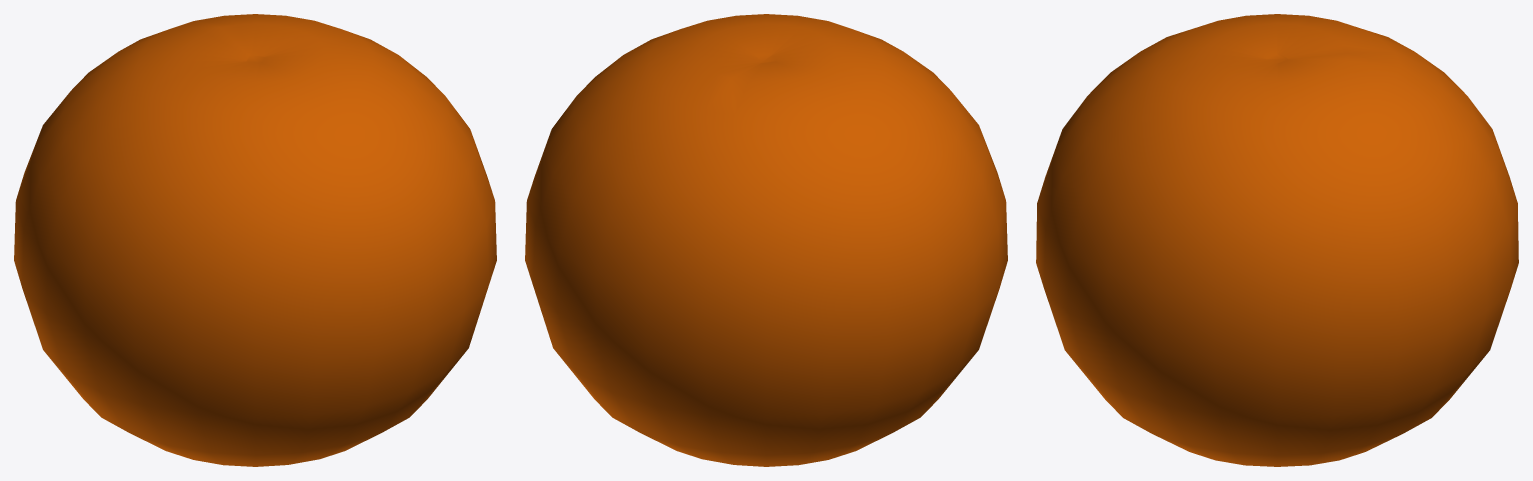
Rendered from Arancia.fbx.
3 views of the same model, side by side, from view 1: azimuth 30°, elevation 25°; view 2: azimuth 150°, elevation 25°; view 3: azimuth 270°, elevation 25° (orthographic).
Visible parts, largest first — view 1: Arancia.002; view 2: Arancia.002; view 3: Arancia.002.
Boxes of the visible parts, x1=… form: Arancia.002: x1=14, y1=14, x2=496, y2=466; Arancia.002: x1=525, y1=14, x2=1007, y2=466; Arancia.002: x1=1036, y1=14, x2=1518, y2=466.
Bounding box in the file's own units: 201 × 175 × 201.
